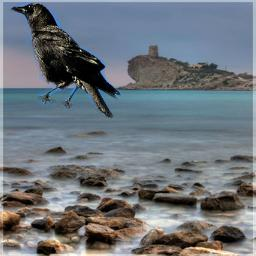Crow: (5, 1, 122, 119)
